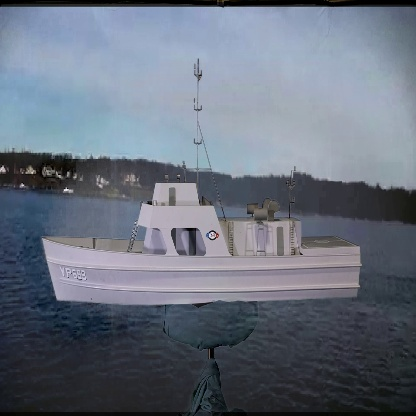YP689: (42, 60, 362, 305)
